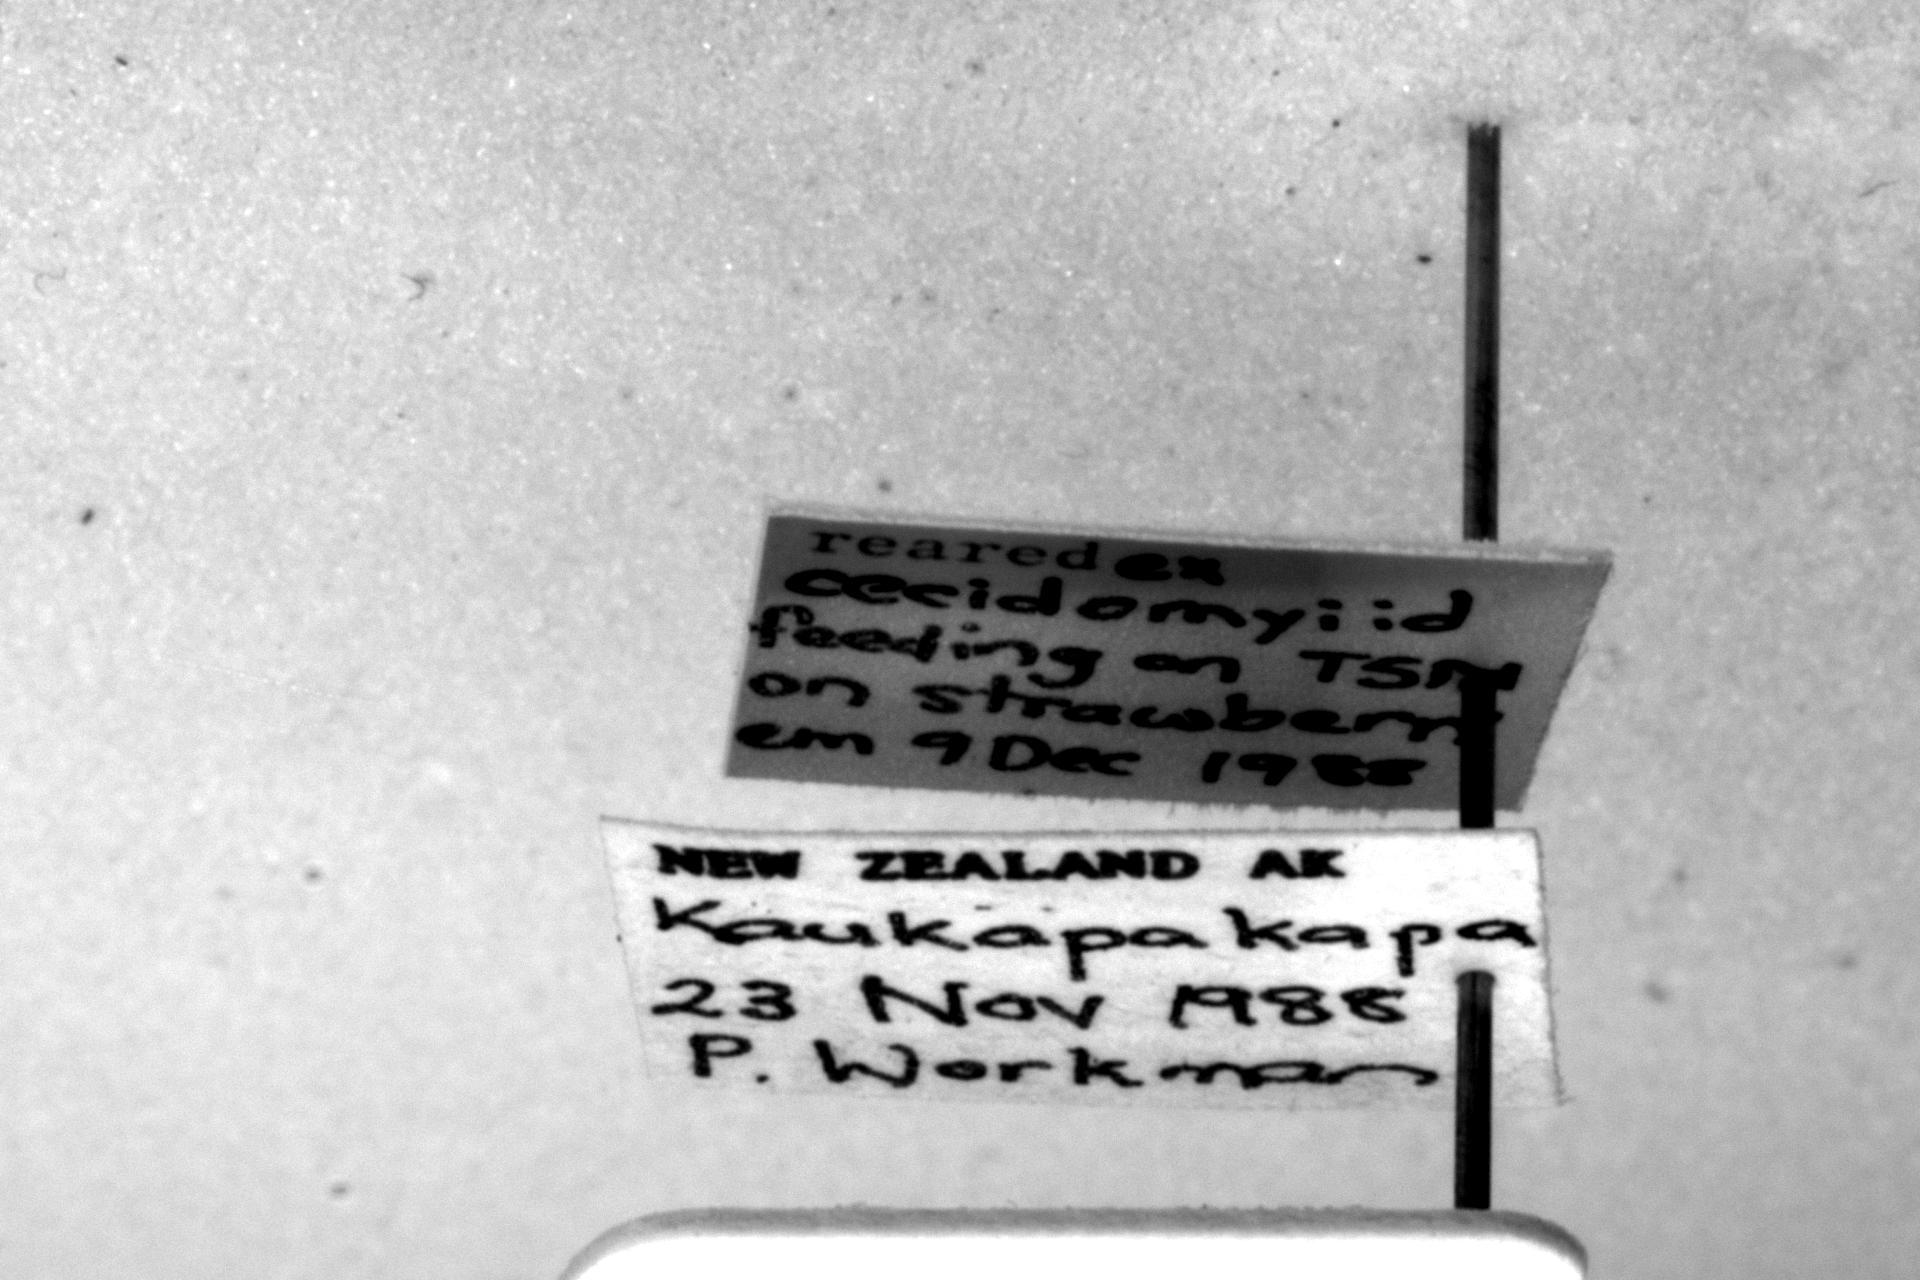mixed_label: (604, 821, 1560, 1110), (728, 514, 1609, 810)
